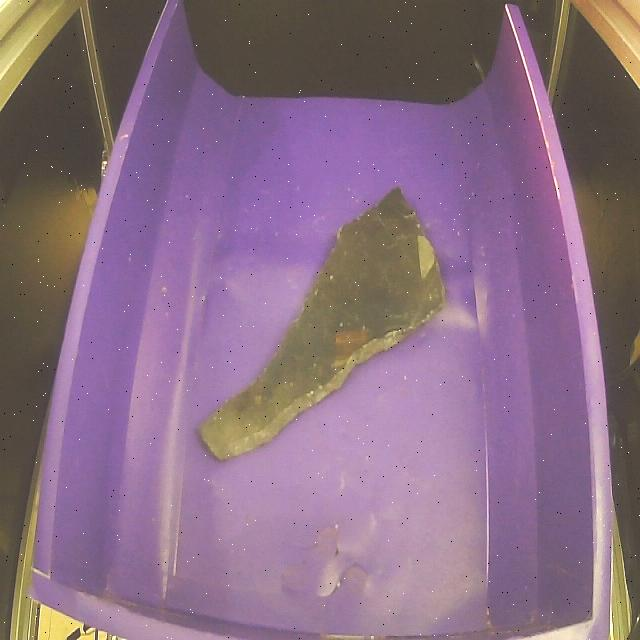china: (186, 171, 457, 469)
